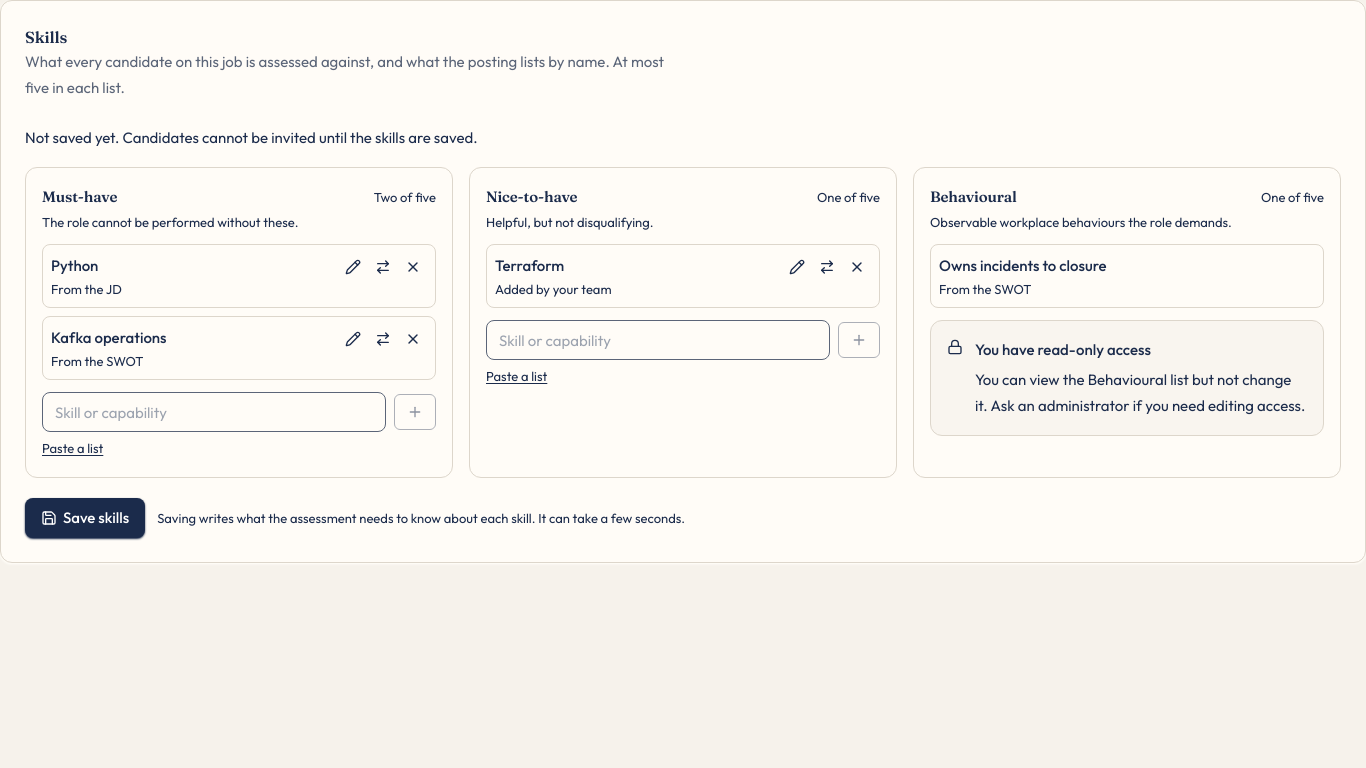
Test: a user who may view but not edit › is told per bucket when only some buckets are theirs
Expected: the text "Python" is shown, [51,256,98,275]
Expected: the text "You have read-only access" is shown, [975,340,1151,359]
// A move is offered only into a bucket the user may also edit.
Click the button named "Move Python": (383, 267) [369,253,397,281]
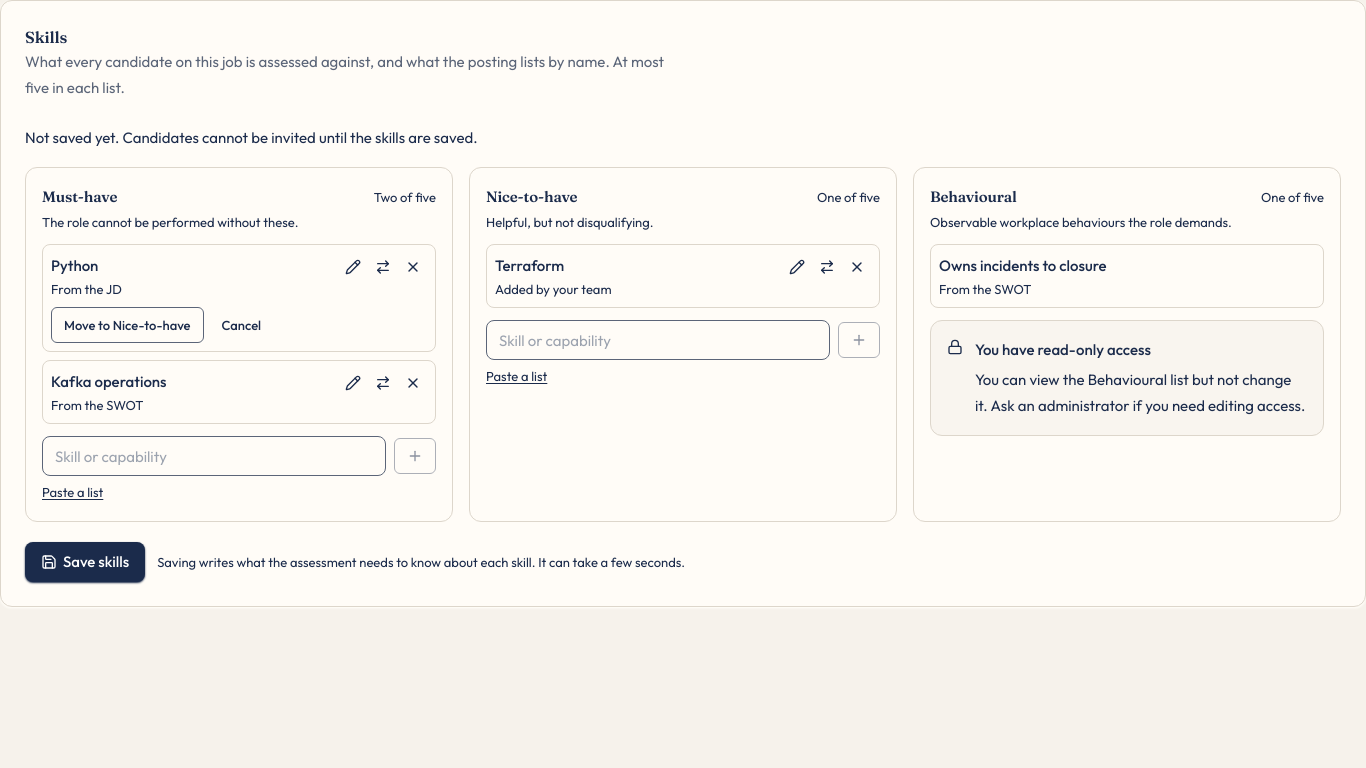
Result: the button "Move to Nice-to-have" is shown at [51,307,204,343]
